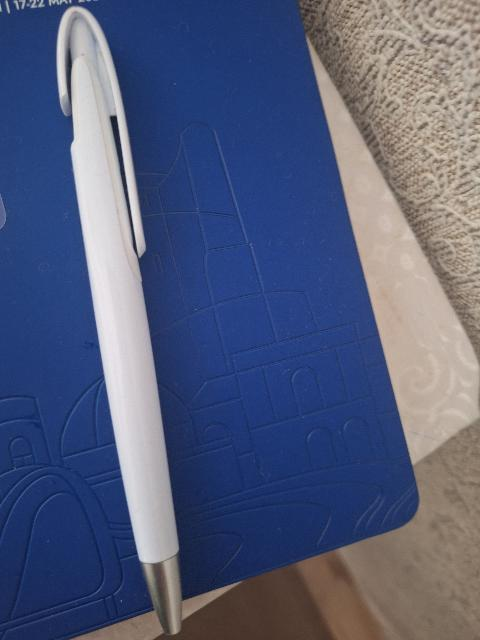writing_tool: (50, 3, 186, 640)
